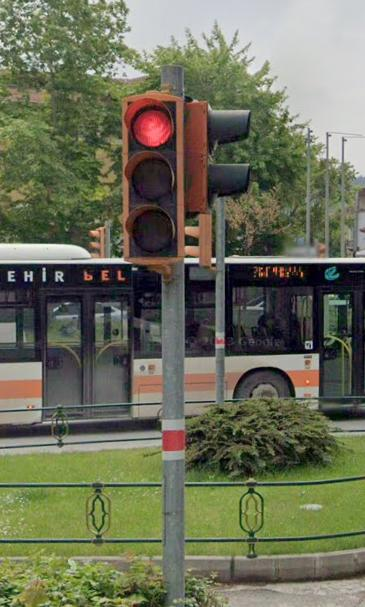redlight: (120, 92, 183, 272)
